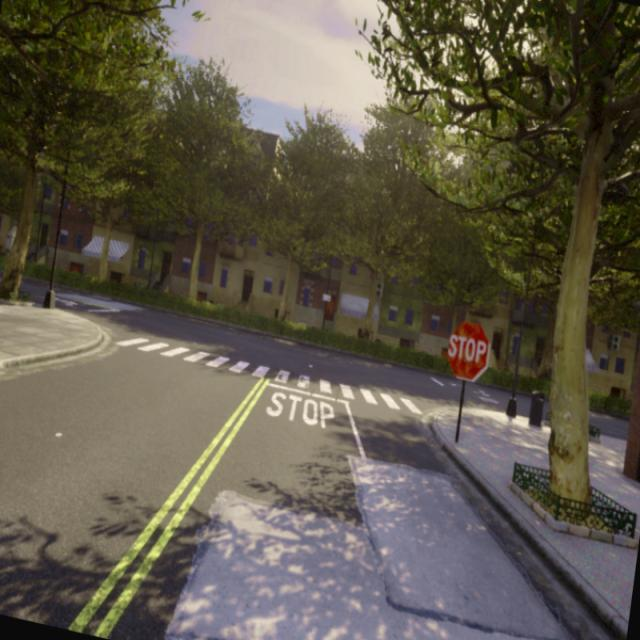stop sign: (444, 318, 491, 383), (447, 333, 487, 364)
